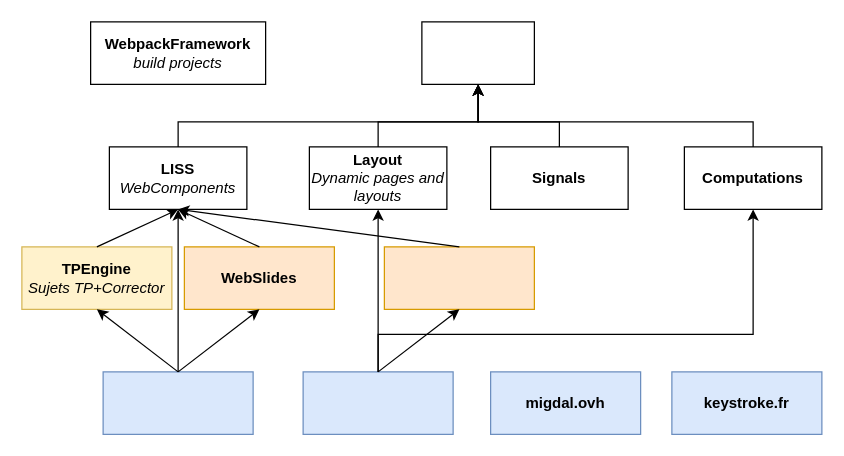
The diagram is 844 pixels wide and 456 high, and some of its shapes have lost their labels. The centre of each missing label's shape, as x and y in pixels:
ChartJS++: the point at 458,277
Cours: the point at 177,402
KeyApp: the point at 377,402
MWL misc: the point at 477,52
